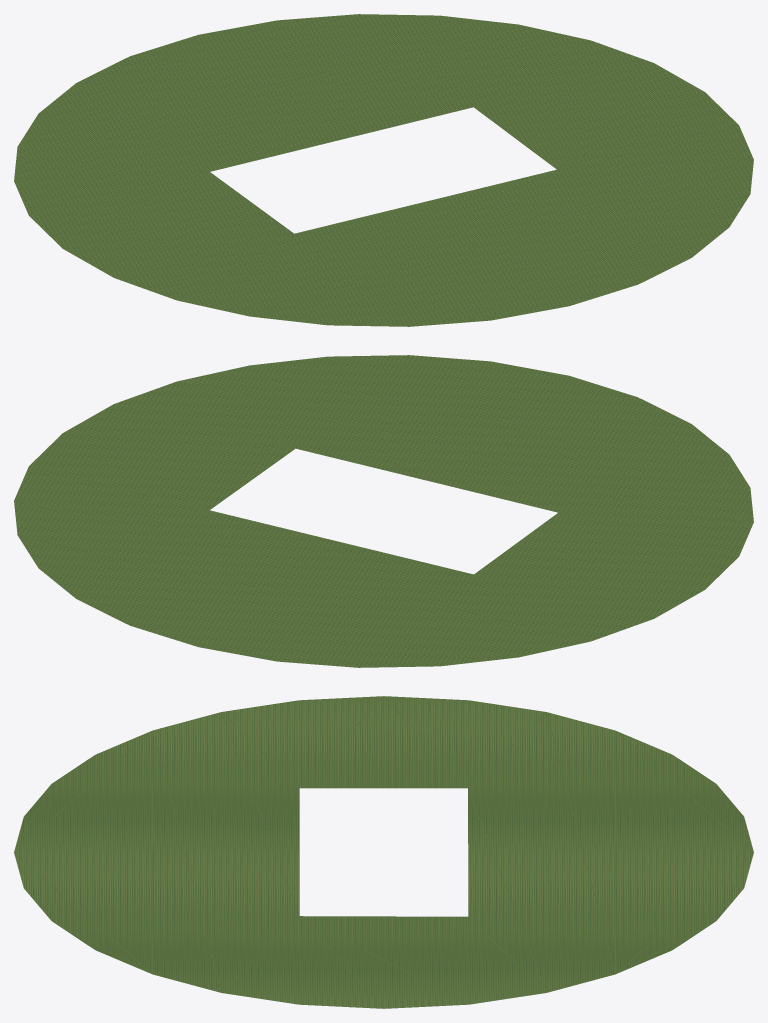
3 renders of one model, top to bottom at view 1: azimuth 30°, elevation 25°; view 2: azimuth 150°, elevation 25°; view 3: azimuth 270°, elevation 25°, orthographic.
Visible parts, largest first — view 1: Circle001; view 2: Circle001; view 3: Circle001.
Boxes of the visible parts, x1,y1,x2,y2 form: Circle001: (14,14,753,326); Circle001: (14,355,753,667); Circle001: (14,696,753,1008).
Size of the model in its own units: 314845 by 20.28 by 314845.
Materials: 1 (1 with a texture image).
